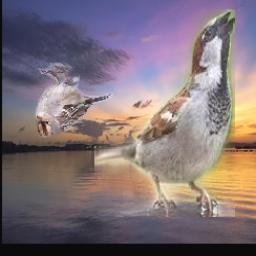Sparrow: (94, 9, 235, 217), (33, 64, 113, 139)
